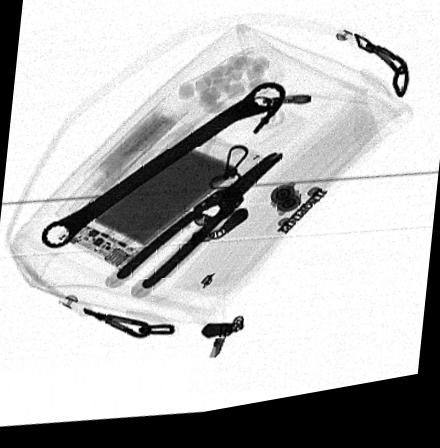Pliers: (115, 160, 285, 295)
Powerbank: (53, 133, 265, 277)
Wrench: (40, 88, 285, 249)
